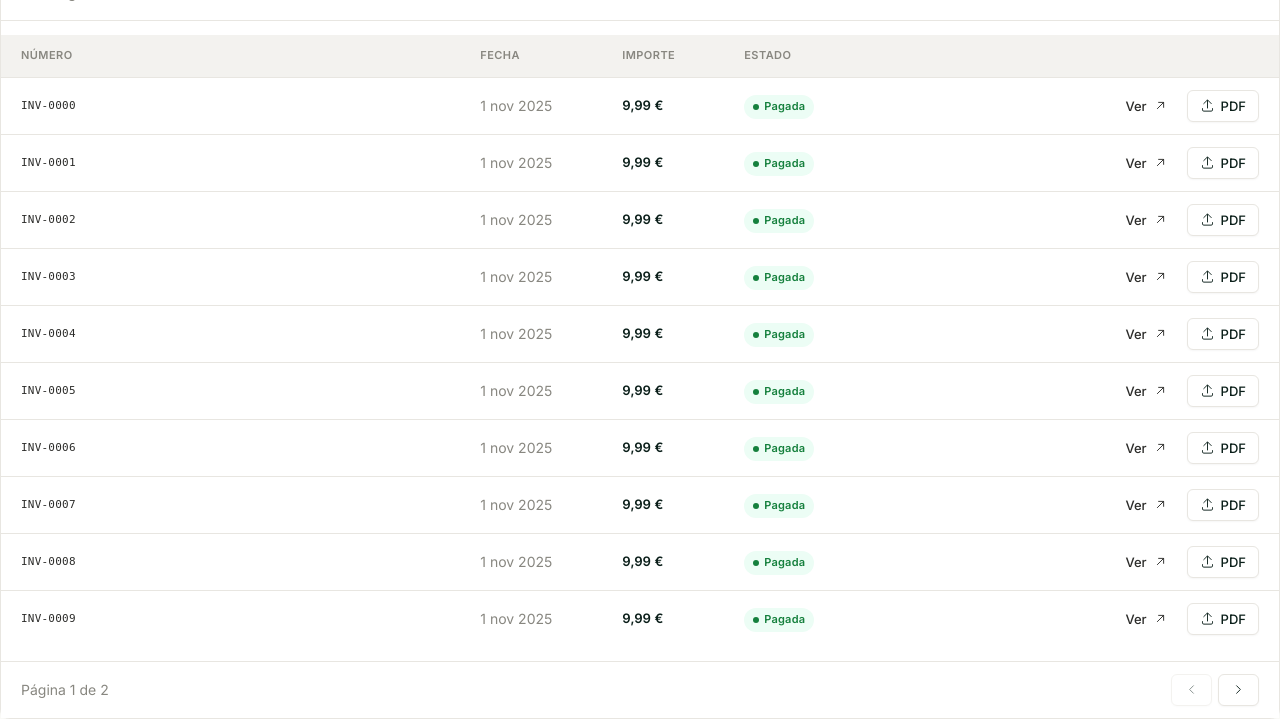
Test: AccountTabFacturas › navega a la página 2 al pulsar "Página siguiente"
(page scrolled)
Expected: the text "INV-0000" is shown, [21,99,76,112]
Click the button named "Página siguiente" at (1238,690), box [1218,674,1259,706]
(page scrolled)
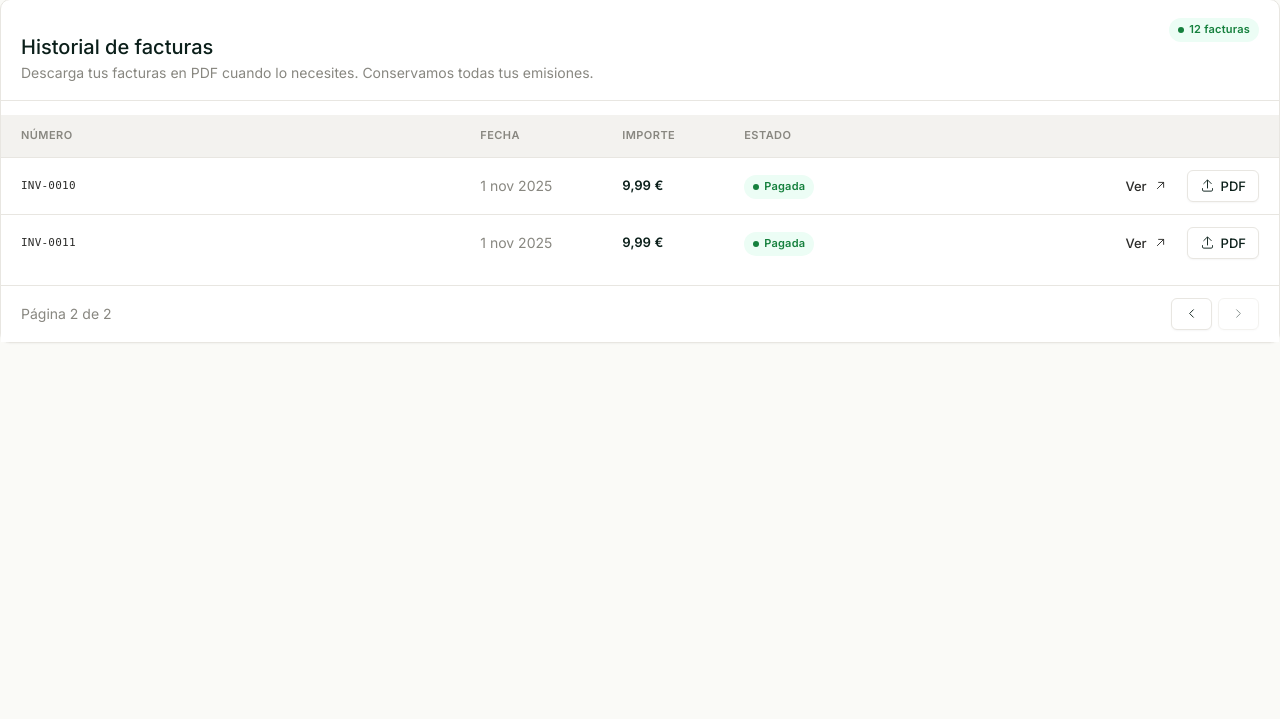
Expected: the text "Página 2 de 2" is shown, [21,304,112,324]
Expected: the text "INV-0010" is shown, [21,179,76,192]
Expected: the text "INV-0011" is shown, [21,236,76,249]
